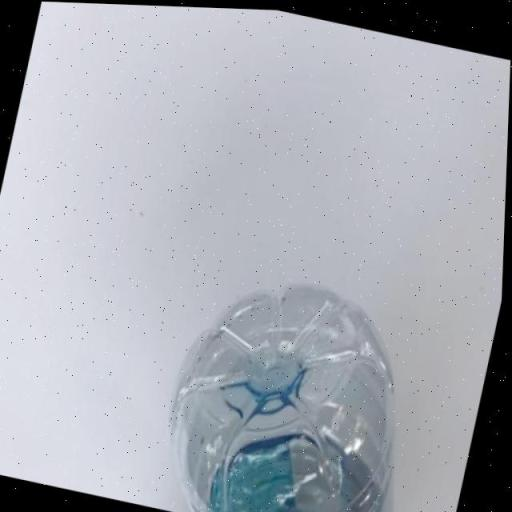plastic: (144, 250, 458, 512)
